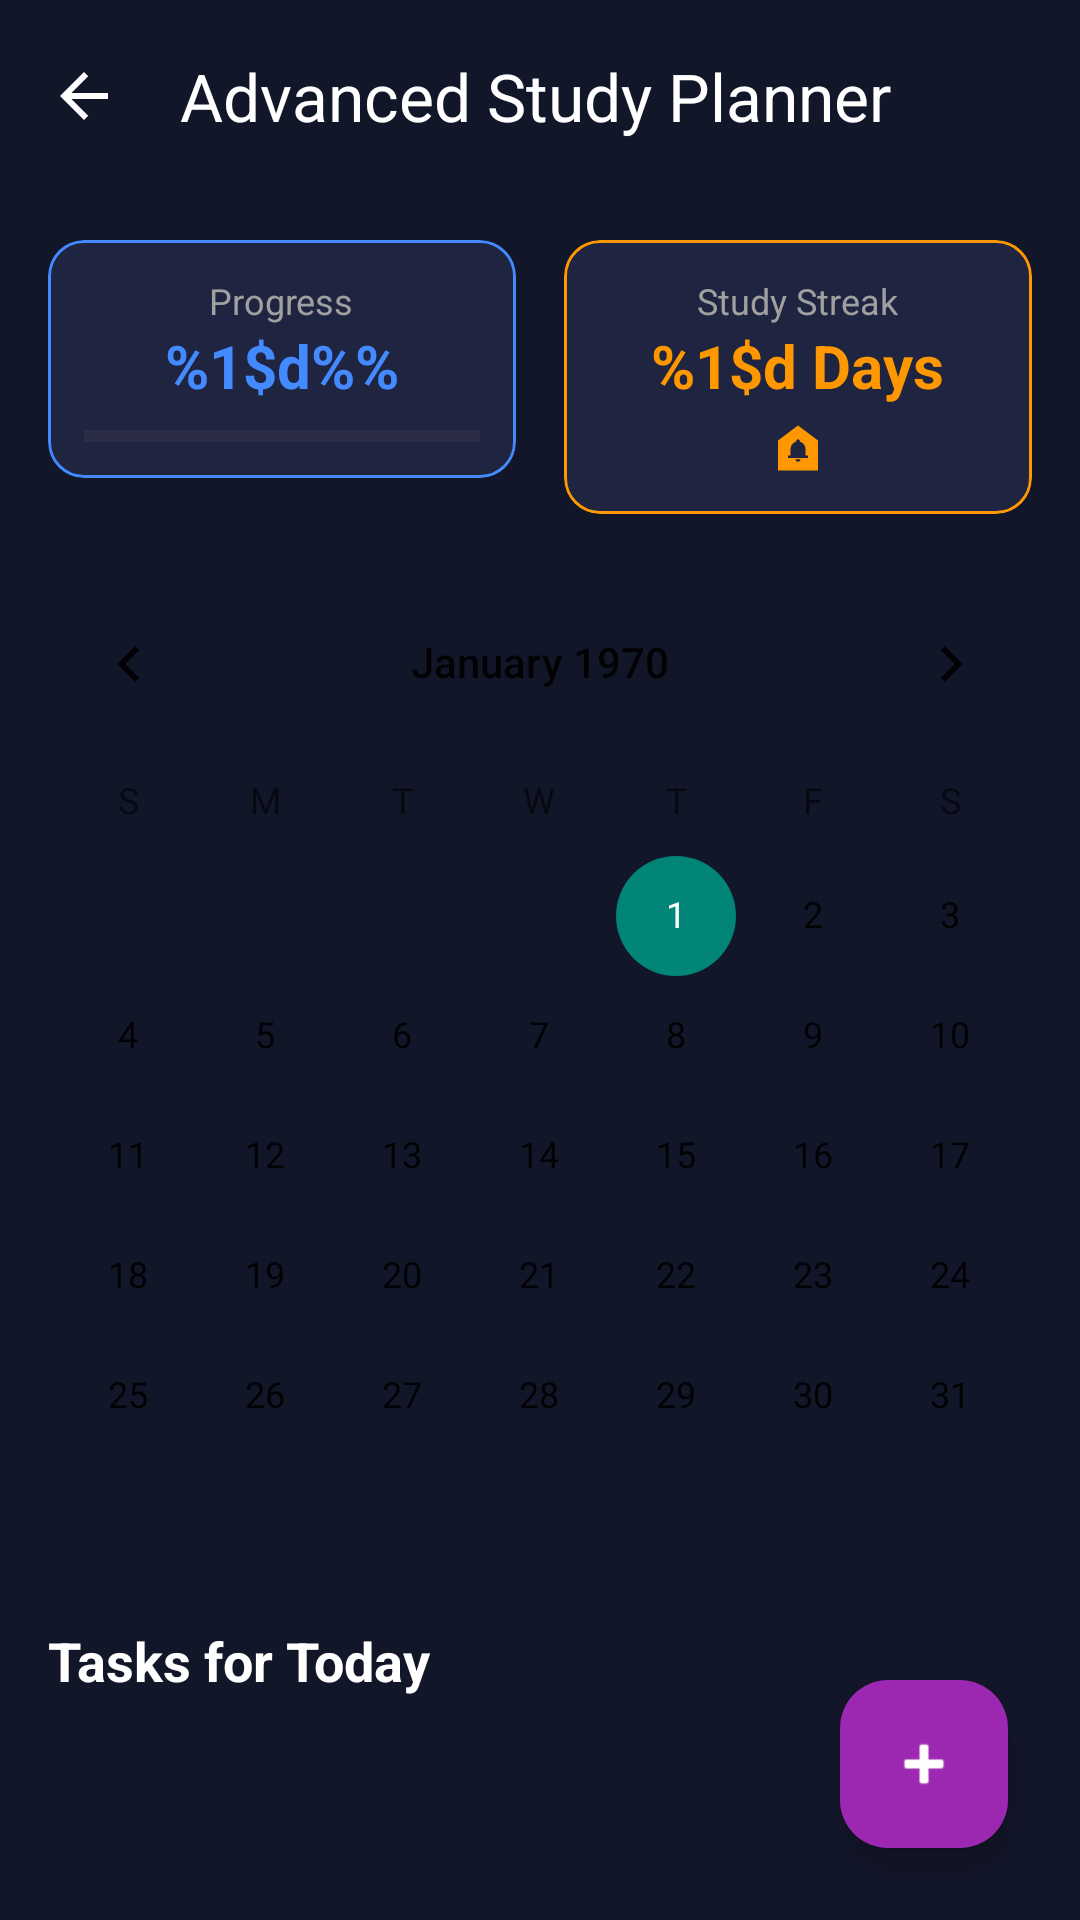

Icons on this 1080px×1920px Android screen, each with the point to tap as (x,y):
add: (924,1764)
notifications: (798,448)
